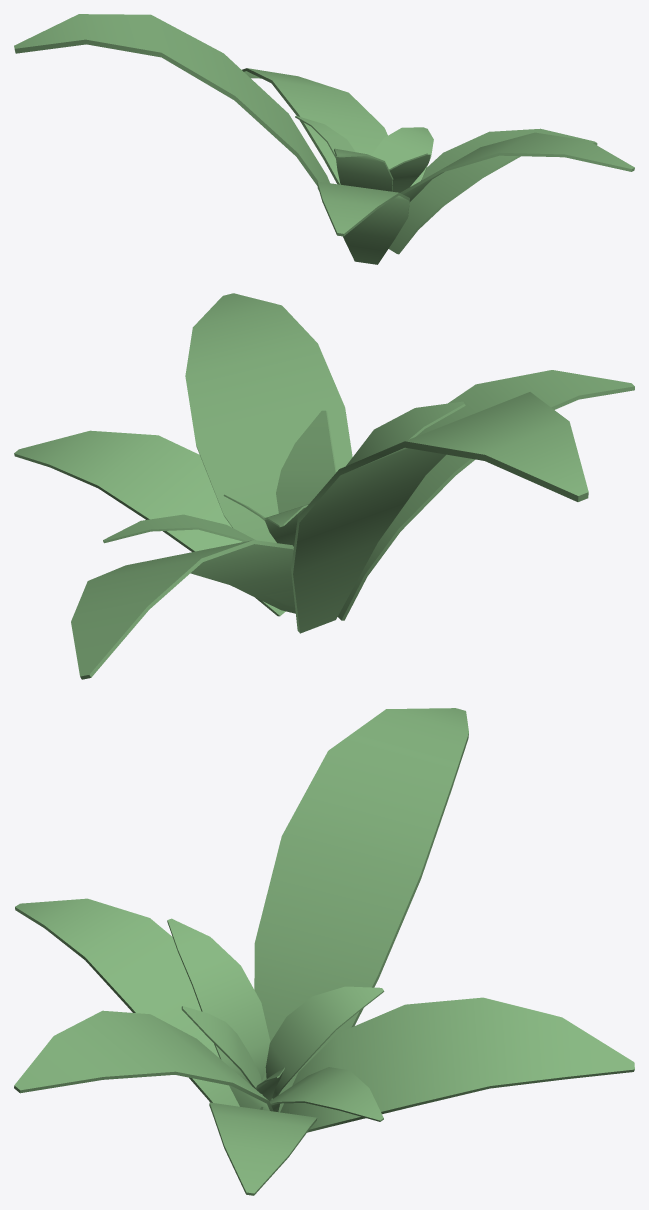
Rendered from Plants_Pack_Leaf_04.003.fbx.
3 renders of one model, top to bottom at view 1: azimuth 30°, elevation 25°; view 2: azimuth 150°, elevation 25°; view 3: azimuth 270°, elevation 25°, orthographic. The views are drawn at different scales.
Parts seen in each view (by area): view 1: Plants_Pack_Leaf_04.003; view 2: Plants_Pack_Leaf_04.003; view 3: Plants_Pack_Leaf_04.003.
Boxes of the visible parts, x1,y1,x2,y2 form: Plants_Pack_Leaf_04.003: [14, 14, 634, 264]; Plants_Pack_Leaf_04.003: [14, 293, 634, 679]; Plants_Pack_Leaf_04.003: [14, 708, 634, 1195].
Bounding box in the file's own units: 129 × 59.04 × 114.
